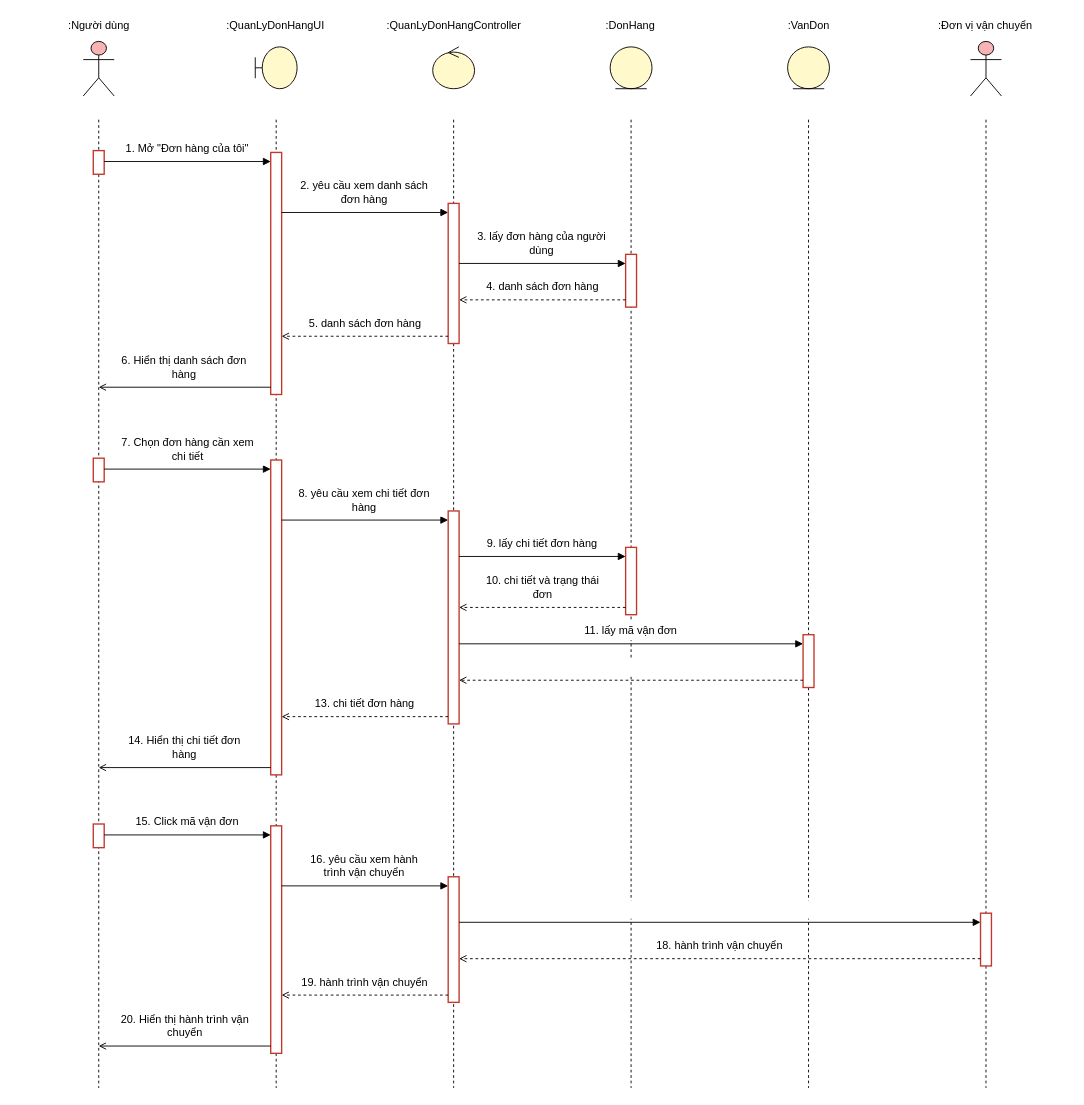
The diagram is 1084 pixels wide and 1105 high, and some of its shapes have lost their labels. The shapes that lost their labels are listed below. From the top down, each one's box as (x1, y1, x2, y2) in pixels, then its label:
(581, 658, 680, 676): 12. mã vận đơn
(602, 900, 837, 918): 17. truy vấn hành trình theo mã vận đơn
